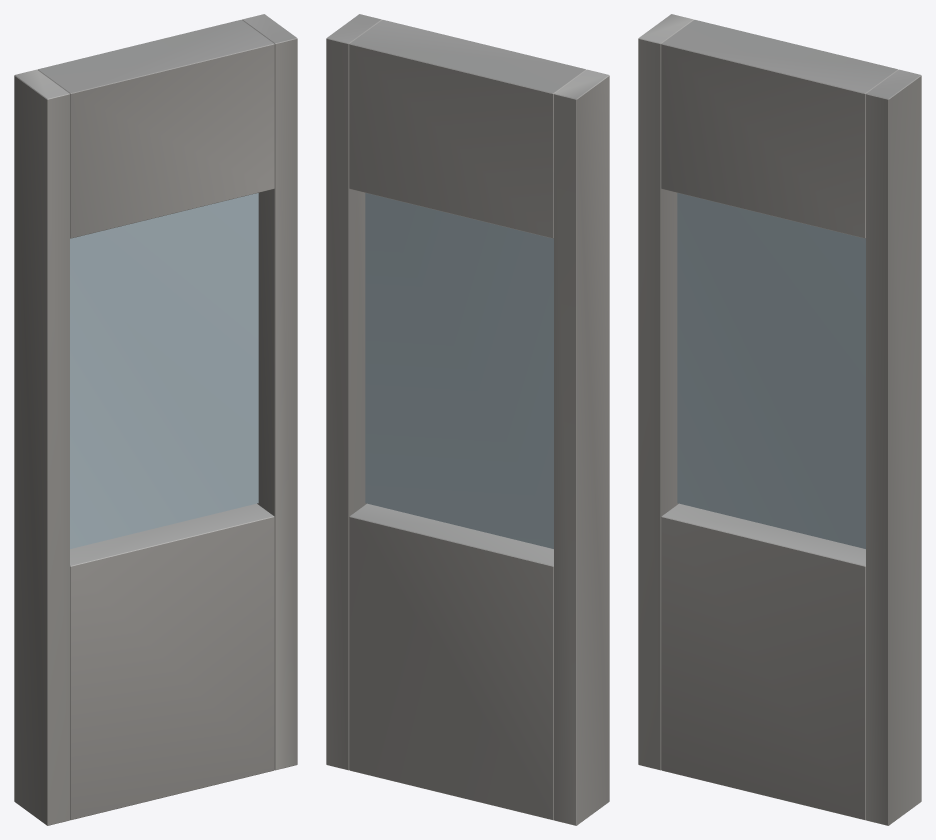
The model's file is window_delco_01_w130.glb.
3 views of the same model, side by side, from view 1: azimuth 30°, elevation 25°; view 2: azimuth 150°, elevation 25°; view 3: azimuth 330°, elevation 25° (orthographic).
Parts seen in each view (by area): view 1: Window_Glass, Window_Sill, Window_Jamb_L, Window_Header, Window_Jamb_R; view 2: Window_Glass, Window_Sill, Window_Jamb_L, Window_Header, Window_Jamb_R; view 3: Window_Glass, Window_Sill, Window_Jamb_R, Window_Header, Window_Jamb_L.
Boxes of the visible parts, left/top/right/bottom form: Window_Glass: left=70, top=193, right=258, bottom=548; Window_Sill: left=70, top=503, right=274, bottom=820; Window_Jamb_L: left=14, top=69, right=69, bottom=825; Window_Header: left=37, top=19, right=274, bottom=238; Window_Jamb_R: left=242, top=14, right=297, bottom=770; Window_Glass: left=365, top=193, right=553, bottom=548; Window_Sill: left=349, top=503, right=553, bottom=820; Window_Jamb_L: left=554, top=69, right=609, bottom=825; Window_Header: left=349, top=19, right=586, bottom=238; Window_Jamb_R: left=326, top=14, right=381, bottom=770; Window_Glass: left=677, top=193, right=865, bottom=548; Window_Sill: left=661, top=503, right=865, bottom=820; Window_Jamb_R: left=866, top=69, right=921, bottom=825; Window_Header: left=661, top=19, right=898, bottom=238; Window_Jamb_L: left=638, top=14, right=693, bottom=770.
Size of what is drawn, in the model's own units: 1.3 by 3.6 by 0.3.
